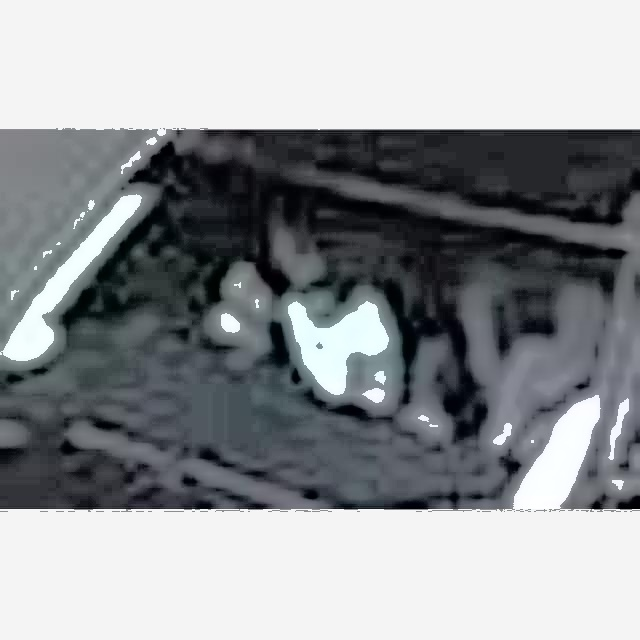pakai: (158, 209, 395, 391)
